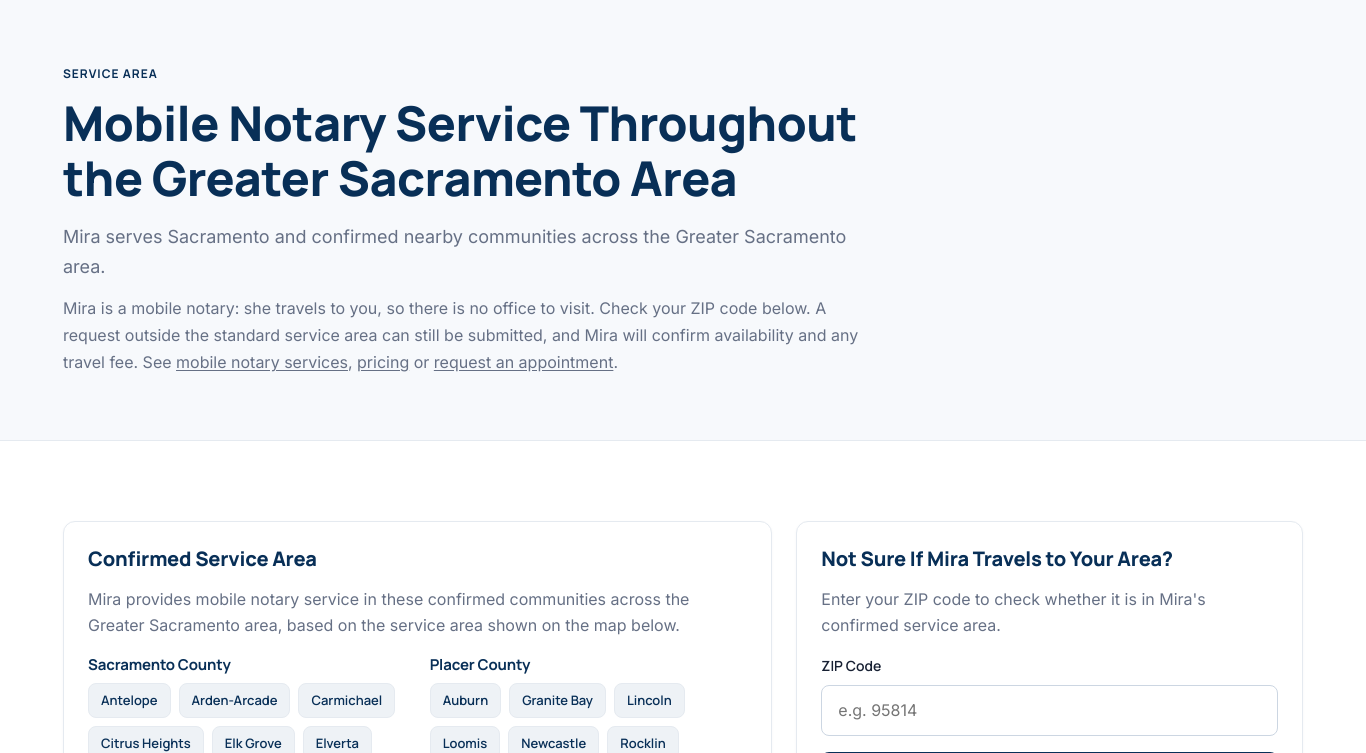
Test case: ServiceAreaComponent ZIP checker › reports 95814 as served and links to the Contact form
Type "95814" into the field with id "zip".
click(1050, 711); type("95814")  # box [821,685,1278,736]
(page scrolled)
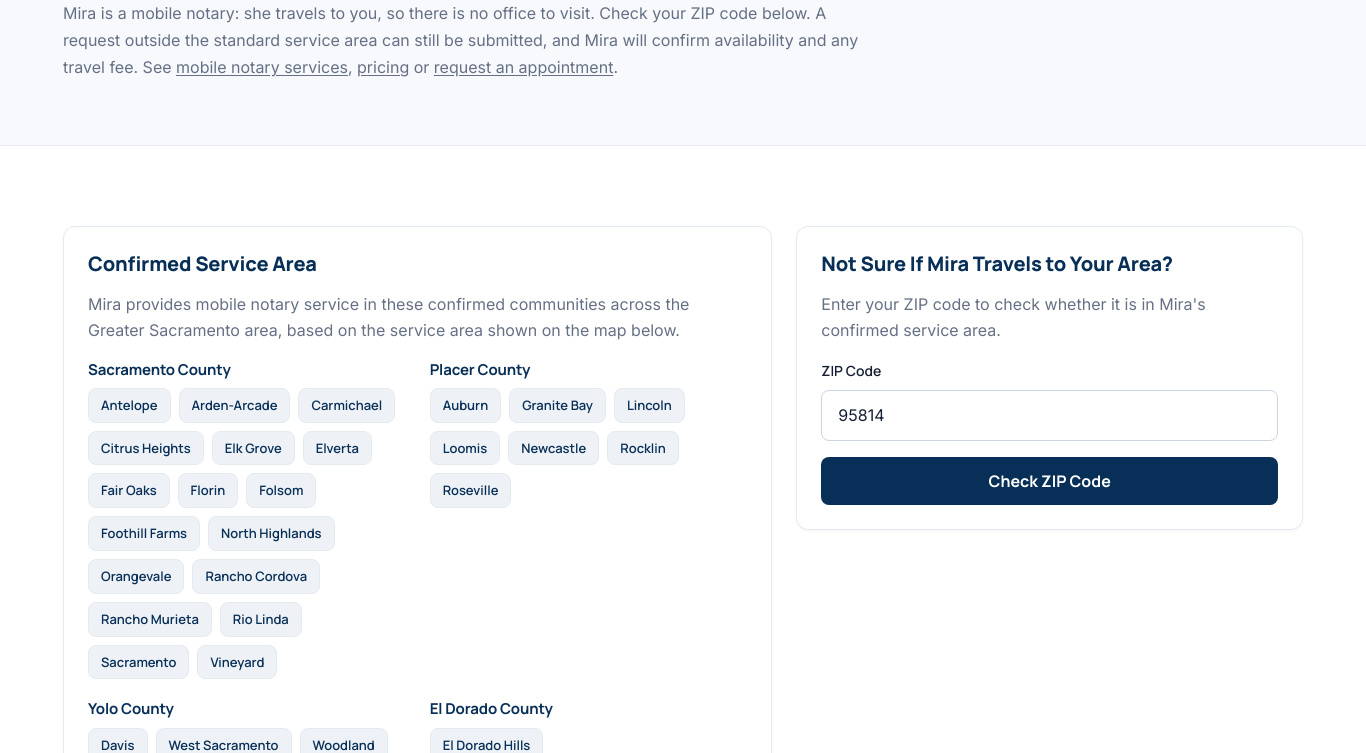
Submit the form, box [821,360,1278,506]
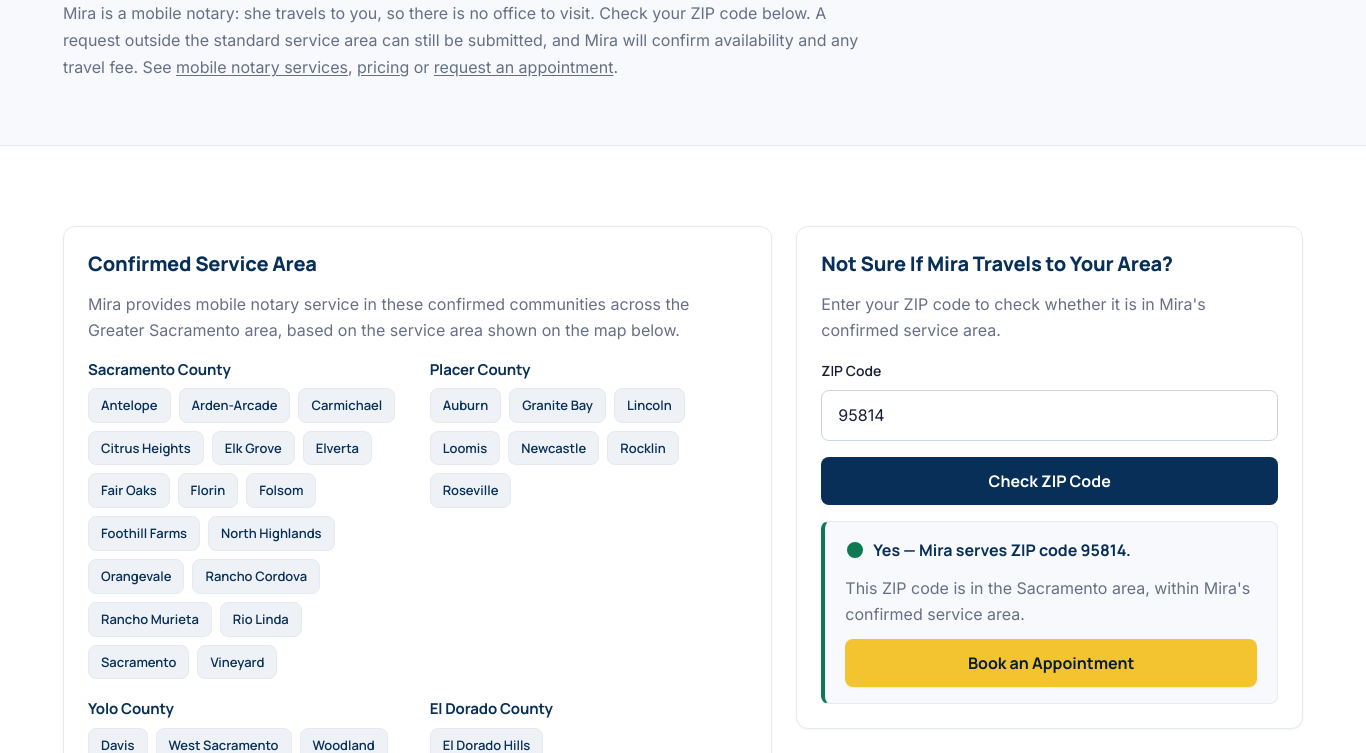
Now the message with id "zip-result" shows "Yes — Mira serves ZIP code 95814.", box [873,540,1131,562]
Now the link with class "btn--gold" reads "Book an Appointment", box [845,639,1257,687]
